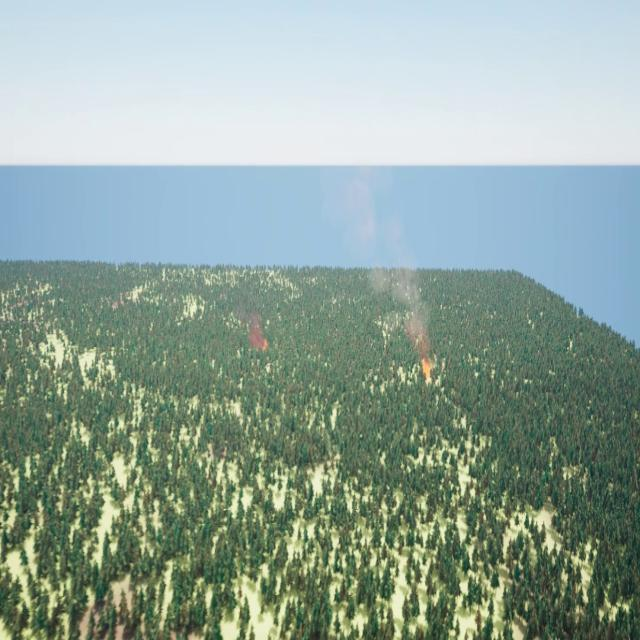fire: (422, 357, 436, 381)
smoke: (331, 163, 434, 359), (247, 312, 269, 352)
